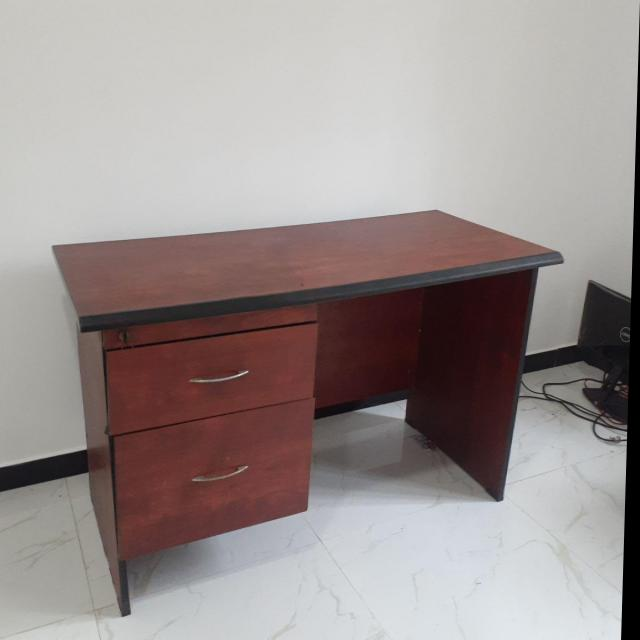Table: (14, 188, 580, 631)
